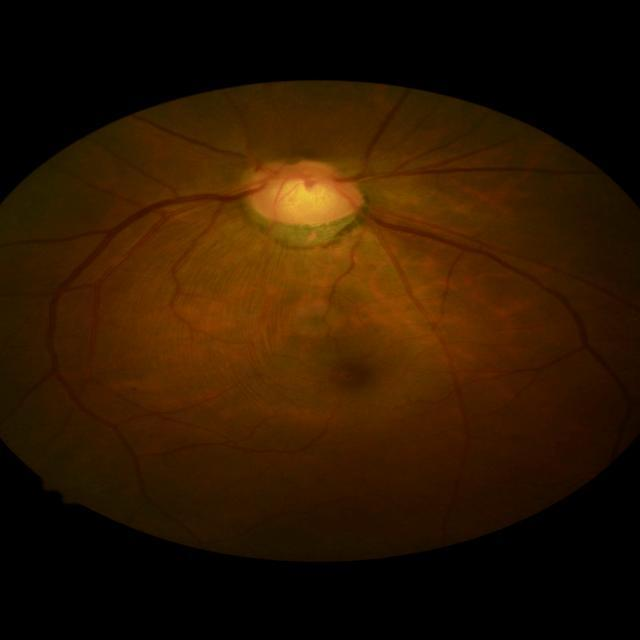cup: (270, 172, 344, 220)
disk: (244, 152, 368, 224)
